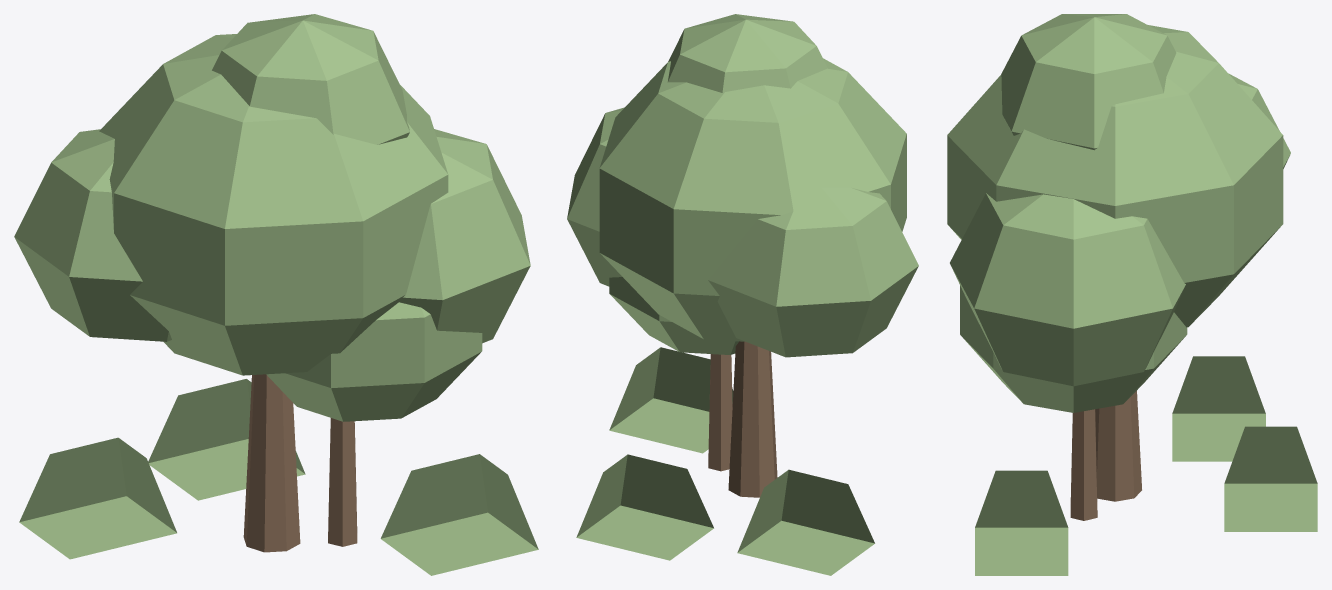
File: hot-air-balloon-festival-field-tree-clump-a4c9bb07__38495.glb
3 renders of one model, left to right at view 1: azimuth 30°, elevation 25°; view 2: azimuth 150°, elevation 25°; view 3: azimuth 270°, elevation 25°, orthographic. The views are drawn at different scales.
Visible parts, largest first — view 1: field-tree-clump-grass, field-tree-clump-leather; view 2: field-tree-clump-grass, field-tree-clump-leather; view 3: field-tree-clump-grass, field-tree-clump-leather.
Part boxes in pixels (x1,y1,x2,y2): field-tree-clump-grass: (14, 14, 538, 575); field-tree-clump-leather: (243, 374, 357, 552); field-tree-clump-grass: (567, 14, 918, 575); field-tree-clump-leather: (708, 341, 777, 497); field-tree-clump-grass: (947, 14, 1317, 575); field-tree-clump-leather: (1070, 391, 1141, 520).
Bounding box in the file's own units: 4.34 × 5.12 × 3.57.
